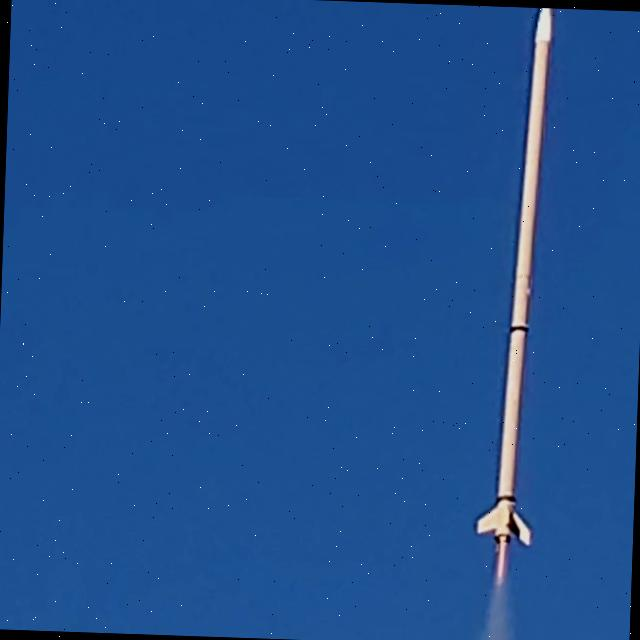rocket: (476, 7, 555, 576)
